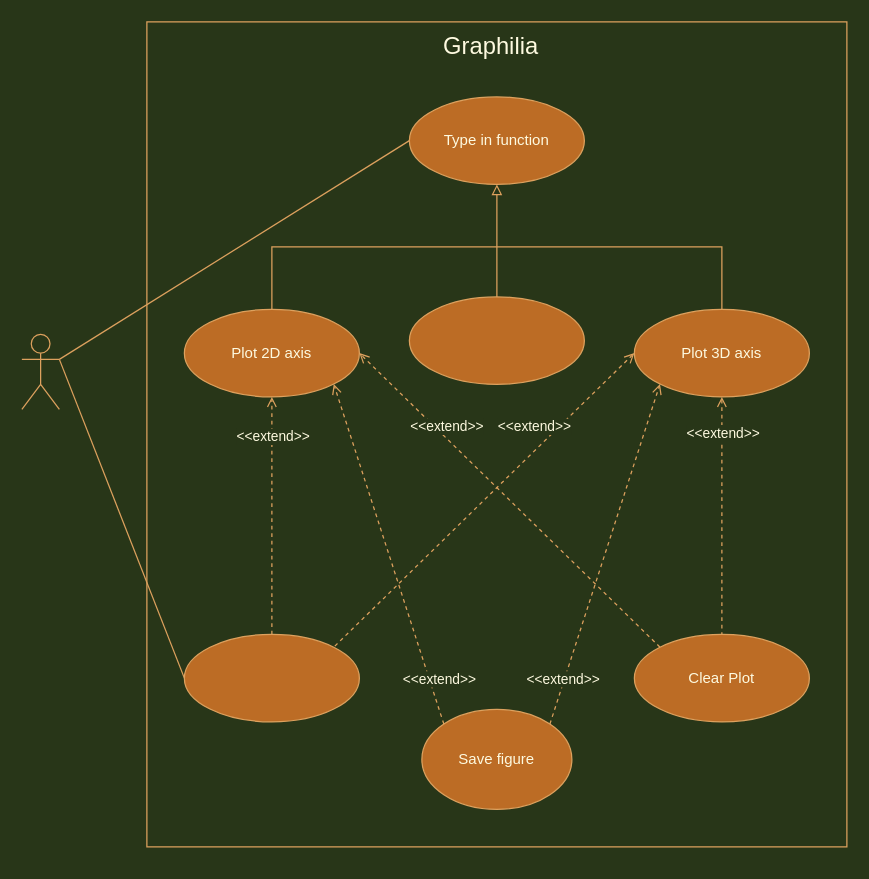
Some shapes in this 869 by 879 pixel diagram are drawn without their labels. Here are the shapes that lost their labels. From the top down, the centre of each, then its label:
[496,340]: Display "invalid entry"
[40,371]: Actor
[271,677]: Alter axis limits
